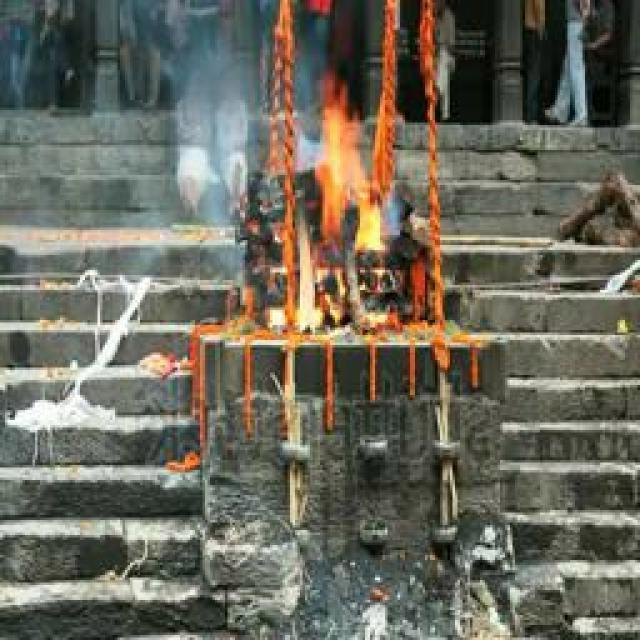Fire: (284, 80, 388, 332)
